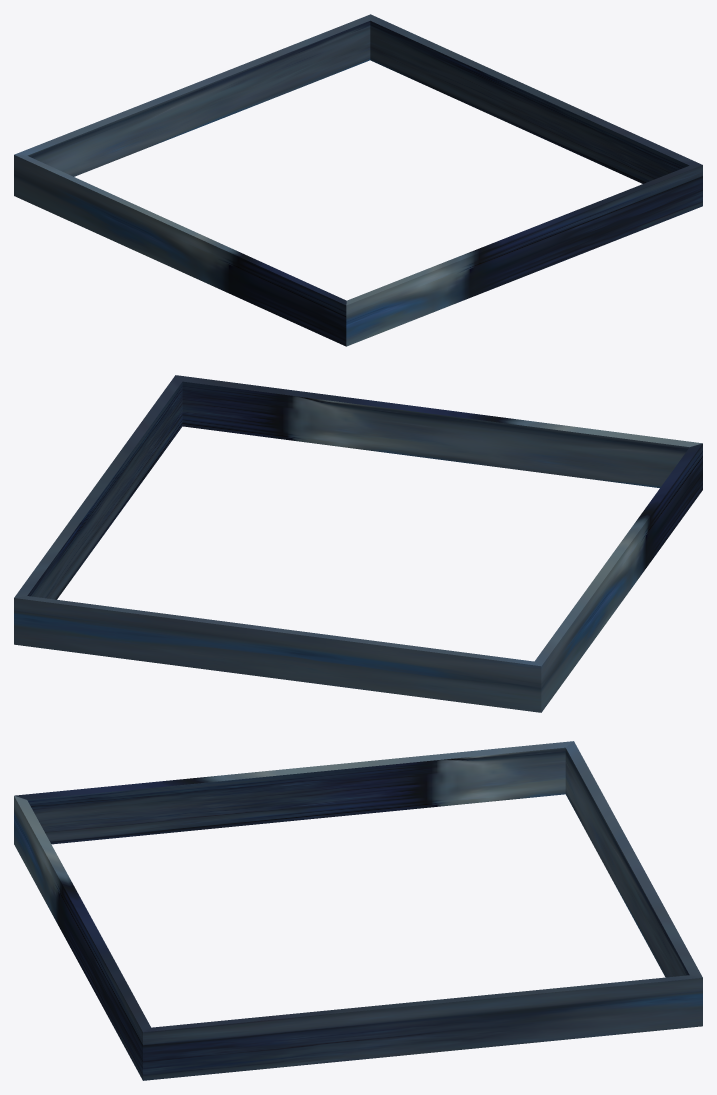
File: TheOctagon_CntStr_Sup_2.gltf
3 views of the same model, one above another, from view 1: azimuth 30°, elevation 25°; view 2: azimuth 150°, elevation 25°; view 3: azimuth 270°, elevation 25° (orthographic). The views are drawn at different scales.
Visible parts, largest first — view 1: TheOctagon_CntStr_Sup_2; view 2: TheOctagon_CntStr_Sup_2; view 3: TheOctagon_CntStr_Sup_2.
Boxes of the visible parts, left/top/right/bottom form: TheOctagon_CntStr_Sup_2: left=14, top=14, right=702, bottom=346; TheOctagon_CntStr_Sup_2: left=14, top=375, right=702, bottom=712; TheOctagon_CntStr_Sup_2: left=14, top=741, right=702, bottom=1080.
Size of the model in its own units: 11.78 by 0.9164 by 11.78.
Materials: 1 (1 with a texture image).
